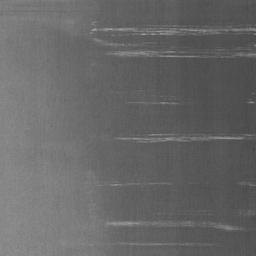Waist folding: (43, 18, 256, 60), (81, 132, 256, 145), (105, 219, 256, 233), (62, 240, 214, 249), (85, 180, 196, 188), (0, 0, 66, 13), (127, 100, 181, 107), (93, 88, 144, 92), (246, 91, 256, 106), (238, 180, 256, 188)
